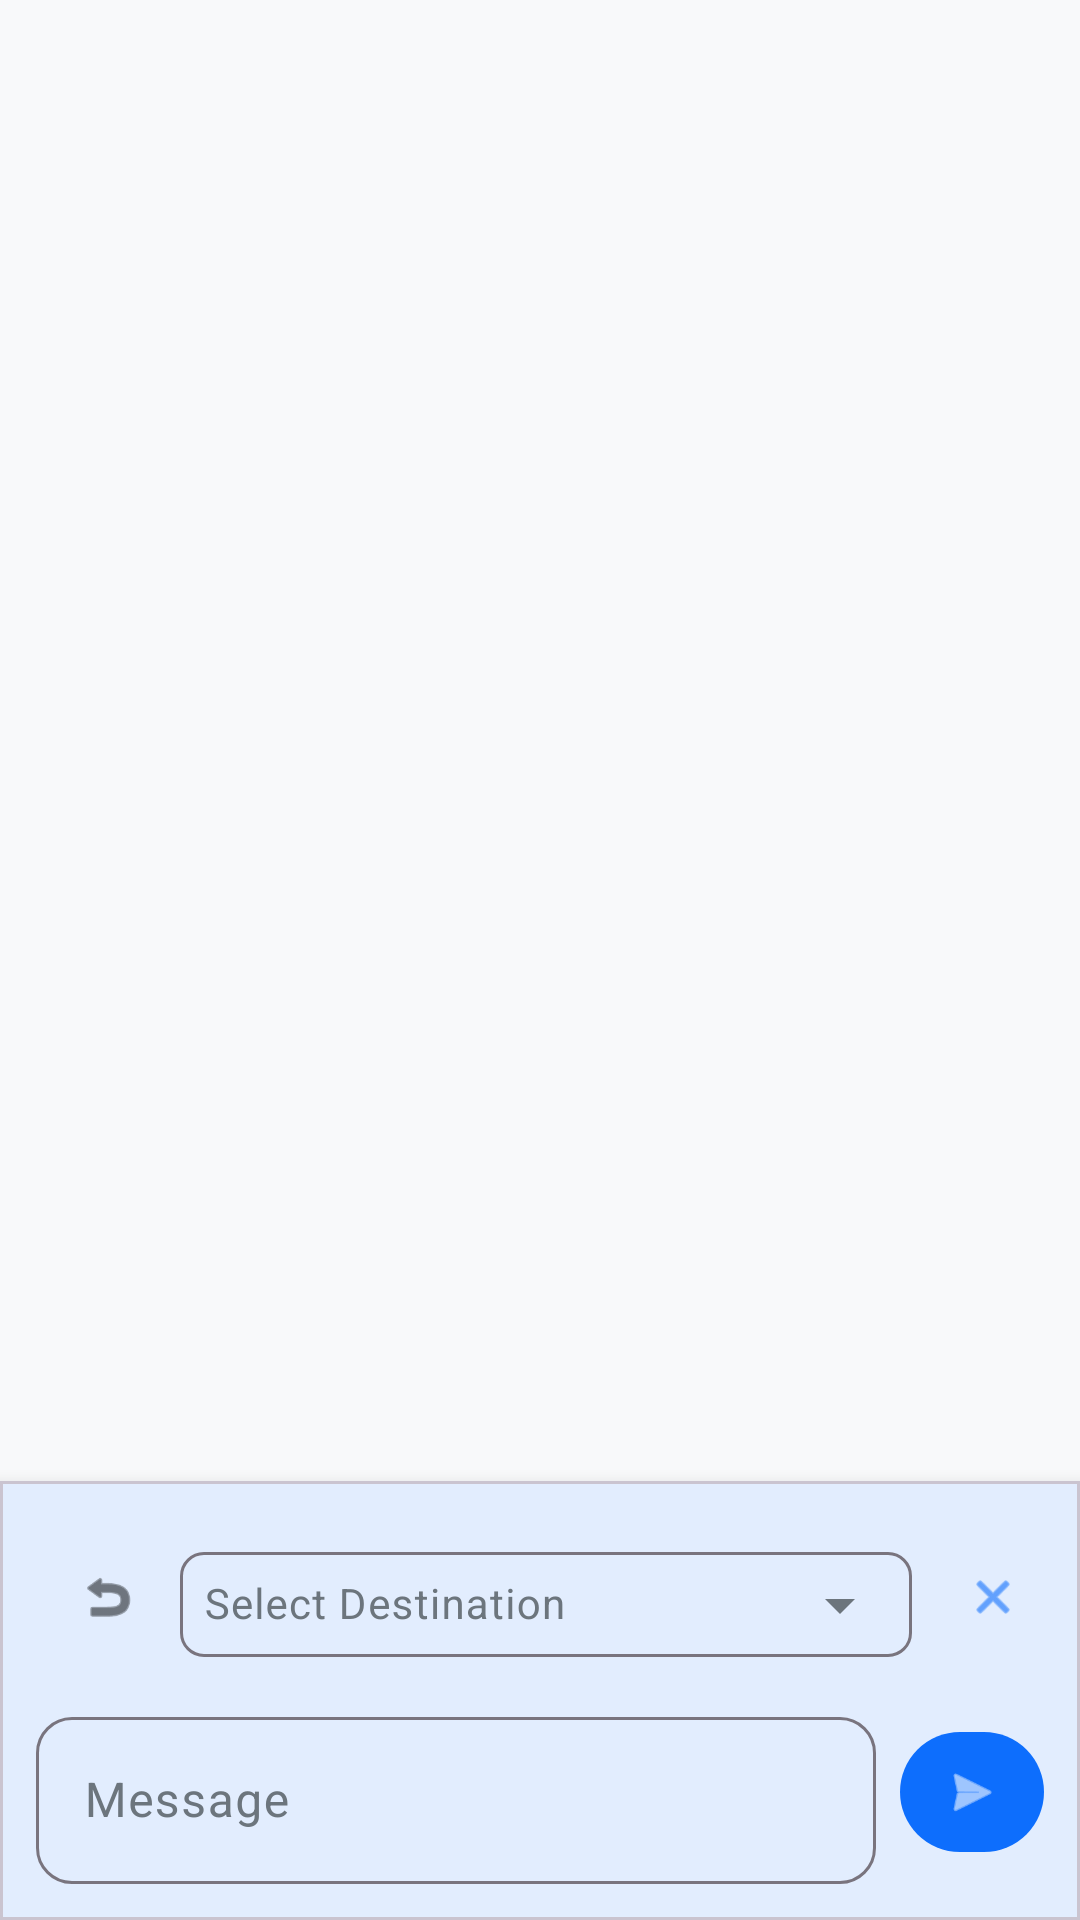

Point at icon controls on the screen. Image size 1080×1920, points as (x,y).
Back: (108,1597)
Send: (972,1792)
